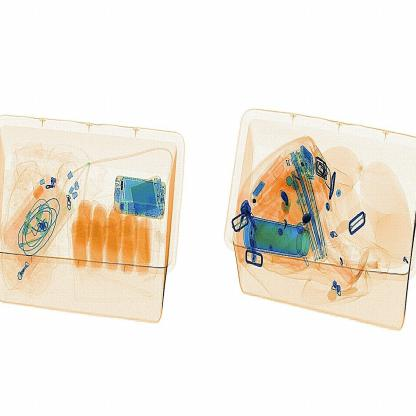wrench: (282, 188, 298, 214)
